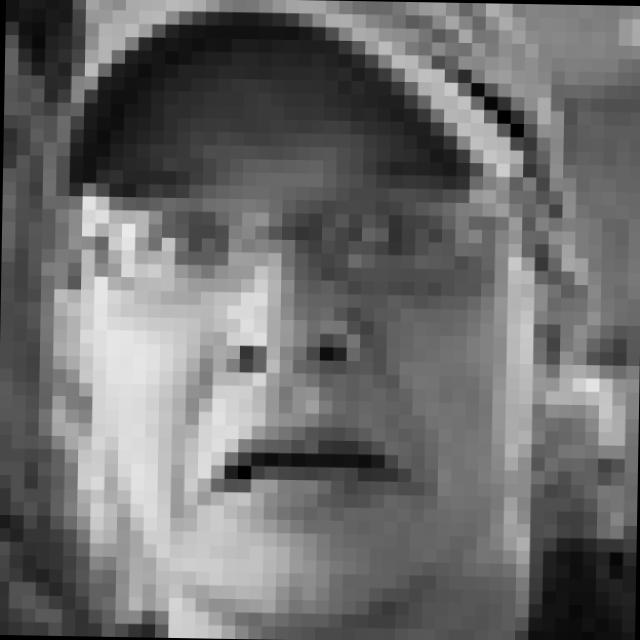fear: (99, 151, 480, 534)
